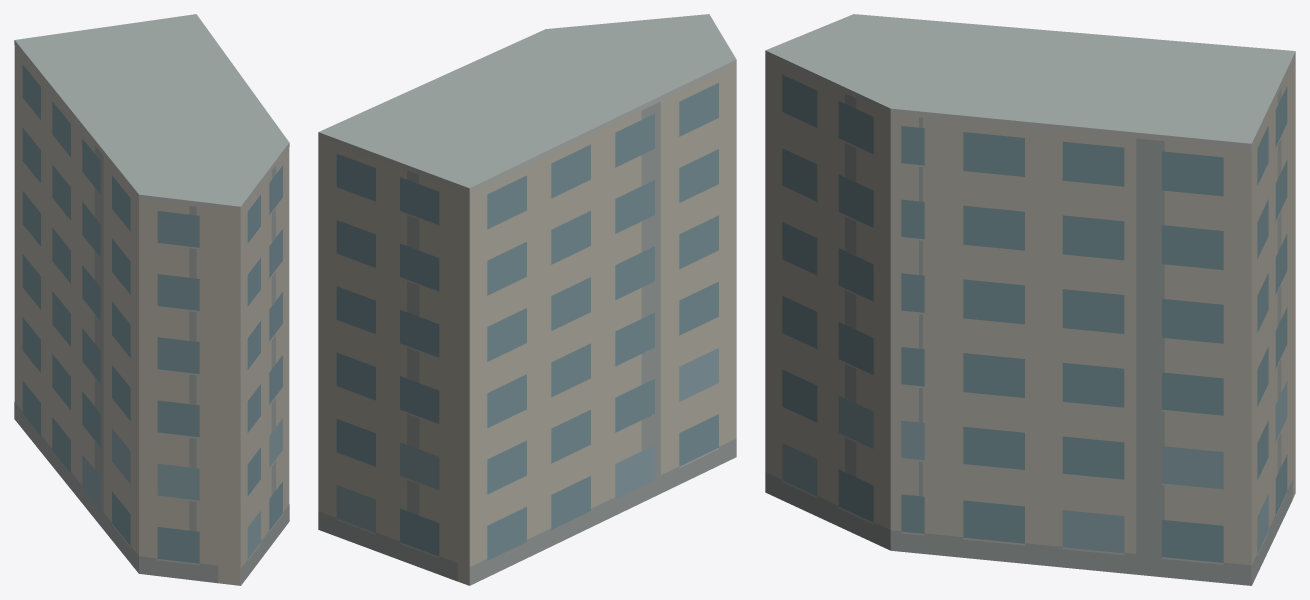
The model's file is survey-upis-32777478.glb.
The picture shows the model from 3 angles, left to right: view 1: azimuth 30°, elevation 25°; view 2: azimuth 150°, elevation 25°; view 3: azimuth 270°, elevation 25°; orthographic projection. The views are drawn at different scales.
Parts seen in each view (by area): view 1: survey-upis-32777478.tmp; view 2: survey-upis-32777478.tmp; view 3: survey-upis-32777478.tmp.
Boxes of the visible parts, left/top/right/bottom form: survey-upis-32777478.tmp: left=14, top=14, right=289, bottom=585; survey-upis-32777478.tmp: left=318, top=14, right=736, bottom=585; survey-upis-32777478.tmp: left=765, top=14, right=1295, bottom=585.
Size of the model in its own units: 11.53 by 18.3 by 19.9.
